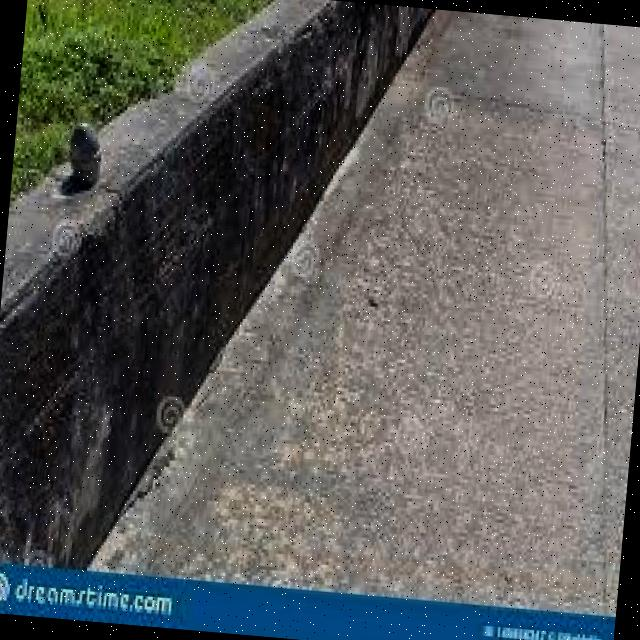curb: (1, 155, 293, 388), (1, 318, 212, 573), (113, 98, 380, 275), (204, 1, 437, 159)
